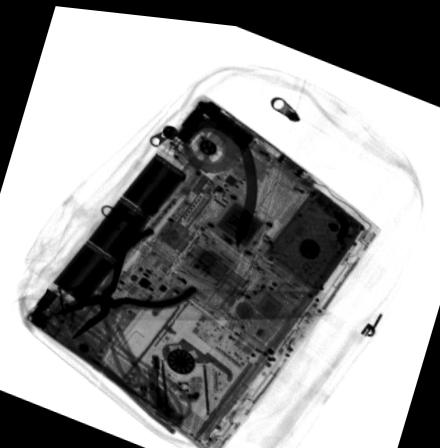Pliers: (48, 224, 196, 340)
